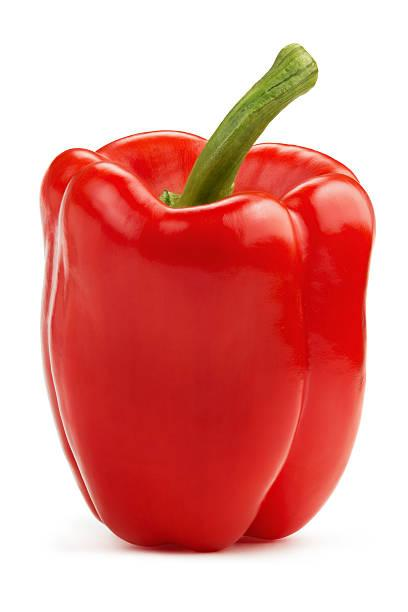Capsicum: (41, 46, 374, 550)
